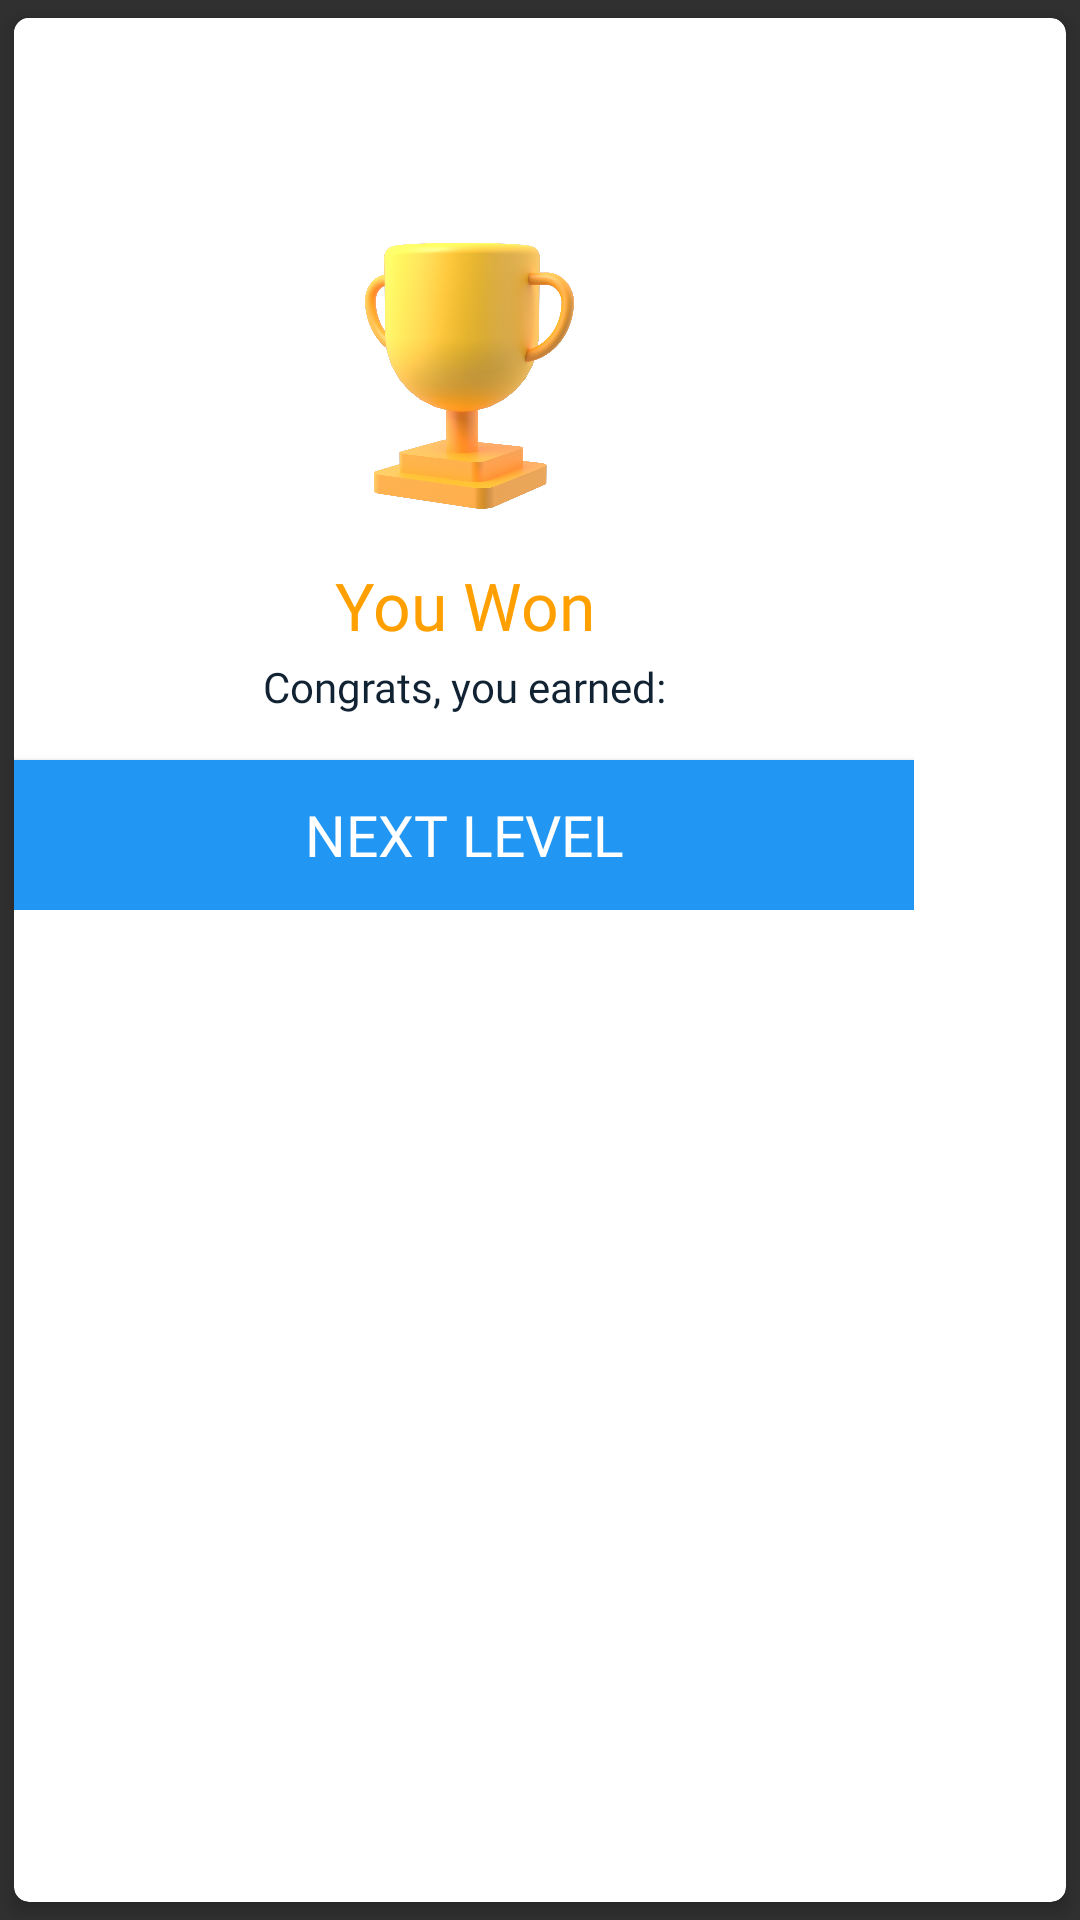

Where to tap for icons on this 1080x1920 app screen, as [x,y]:
trophy 3d: [469,376]
